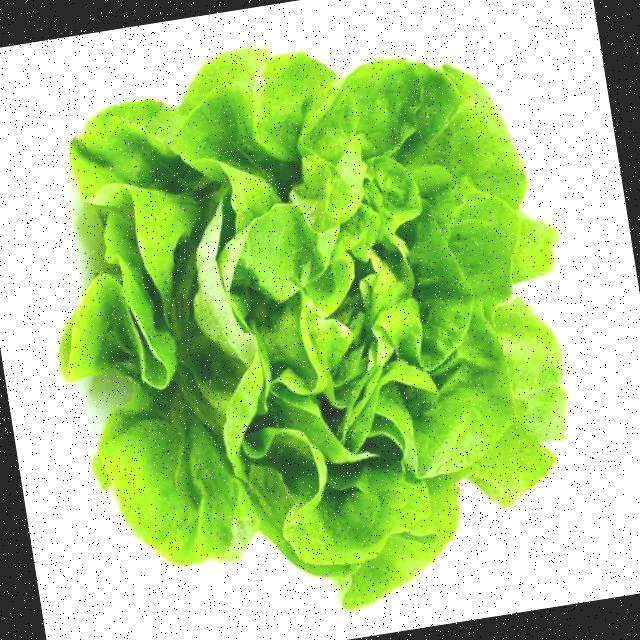healthy: (14, 21, 595, 640)
